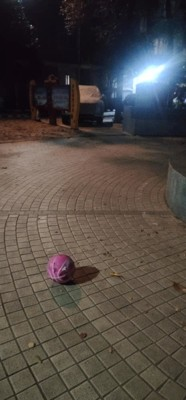ball: (46, 253, 77, 284)
